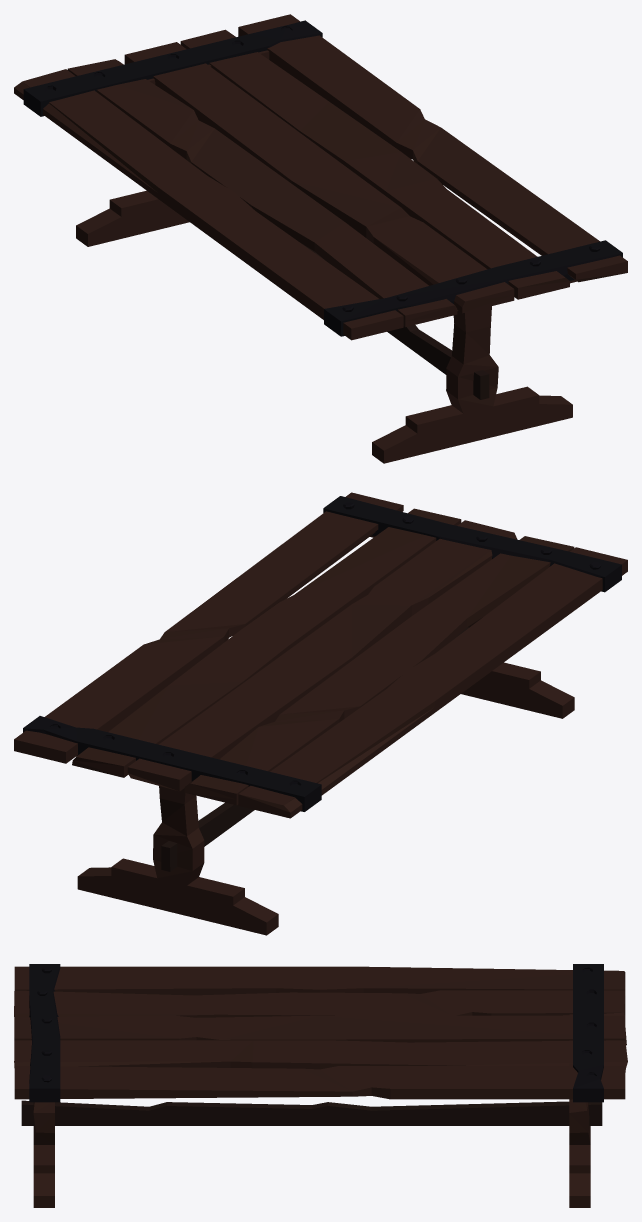
The model's file is Table_Big.obj.
3 renders of one model, top to bottom at view 1: azimuth 30°, elevation 25°; view 2: azimuth 150°, elevation 25°; view 3: azimuth 270°, elevation 25°, orthographic. The views are drawn at different scales.
Parts seen in each view (by area): view 1: Table_Big.001; view 2: Table_Big.001; view 3: Table_Big.001.
Boxes of the visible parts, x1,y1,x2,y2 form: Table_Big.001: [14, 14, 627, 463]; Table_Big.001: [14, 492, 627, 935]; Table_Big.001: [14, 964, 627, 1207].
Bounding box in the file's own units: 1.58 × 0.854 × 3.3.
